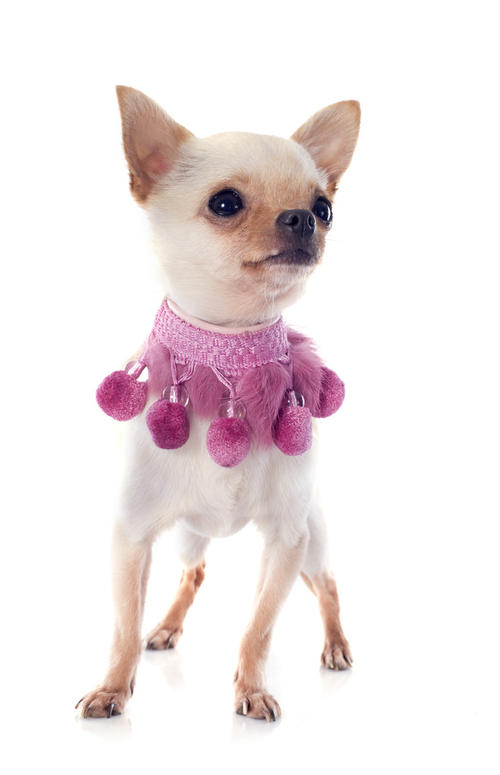dog: (108, 76, 404, 326)
